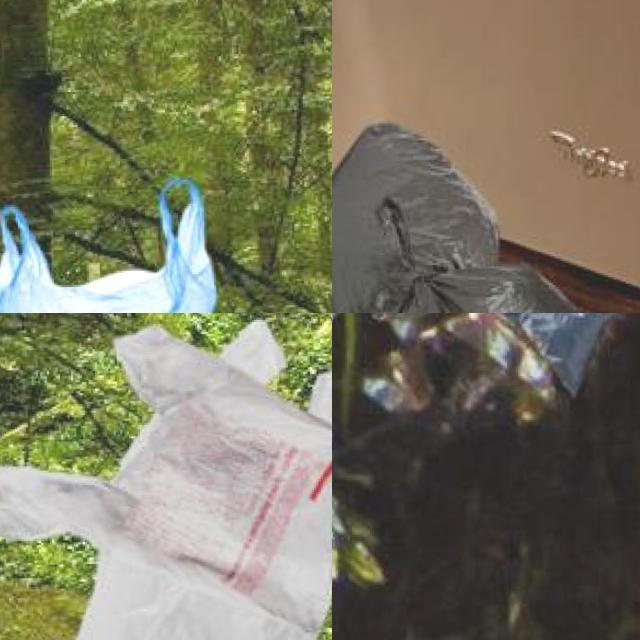waste: (0, 320, 332, 623), (45, 331, 332, 640), (0, 174, 231, 313), (332, 127, 499, 313), (357, 254, 584, 313), (512, 313, 618, 403)
